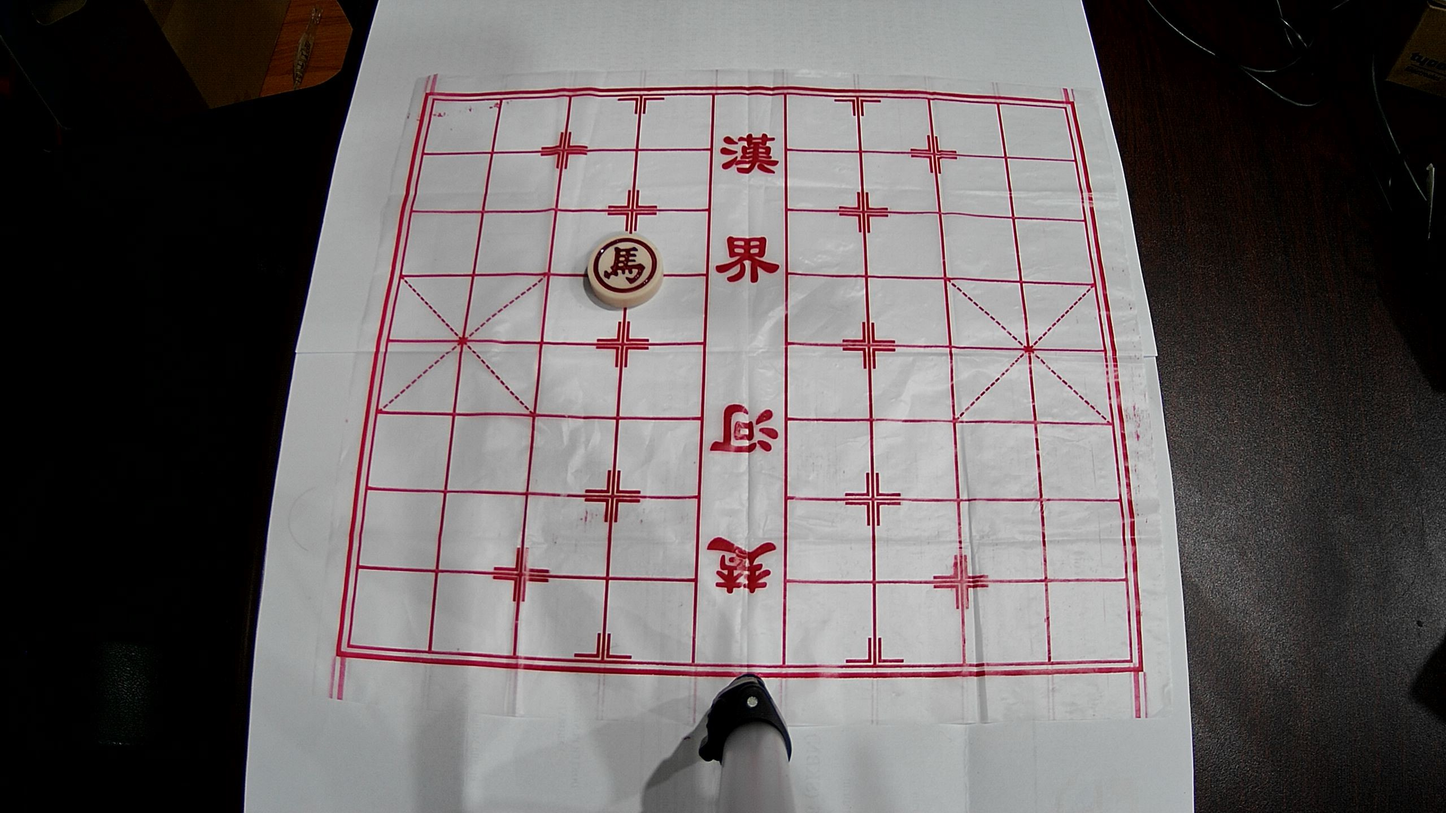Red-Horse: (588, 234, 663, 307)
